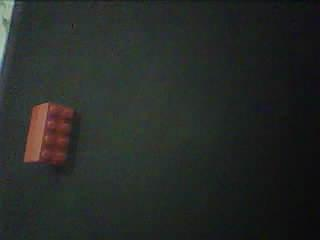lego: (23, 101, 75, 166)
